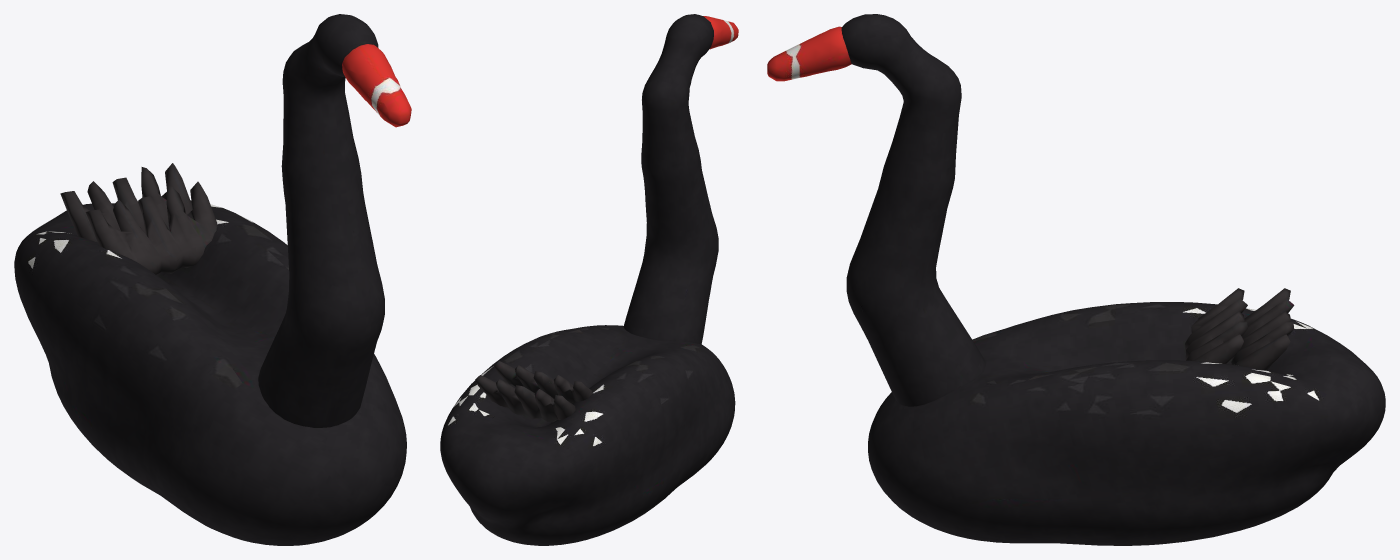
File: animal_black_swan.glb
The picture shows the model from 3 angles, left to right: view 1: azimuth 30°, elevation 25°; view 2: azimuth 150°, elevation 25°; view 3: azimuth 270°, elevation 25°; orthographic projection. The views are drawn at different scales.
Visible parts, largest first — view 1: animal_black_swan, head; view 2: animal_black_swan, head; view 3: animal_black_swan, head.
Part boxes in pixels (left/top/right/bottom): animal_black_swan: left=14, top=163, right=406, bottom=545; head: left=258, top=14, right=411, bottom=427; animal_black_swan: left=440, top=325, right=735, bottom=545; head: left=623, top=14, right=738, bottom=344; animal_black_swan: left=868, top=288, right=1385, bottom=545; head: left=767, top=14, right=985, bottom=406.
Size of the model in its own units: 0.1555 by 0.3681 by 0.4006.
Materials: 1 (1 with a texture image).
